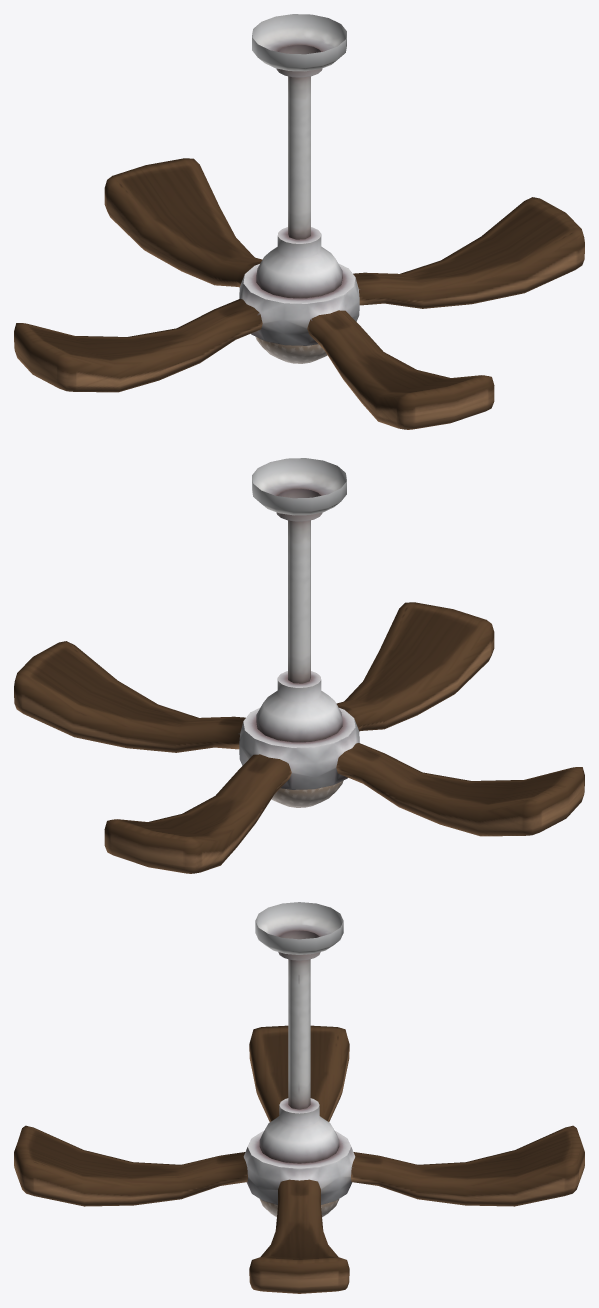
Rendered from FanCeiling01.FBX.
3 views of the same model, one above another, from view 1: azimuth 30°, elevation 25°; view 2: azimuth 150°, elevation 25°; view 3: azimuth 270°, elevation 25° (orthographic). The views are drawn at different scales.
Visible parts, largest first — view 1: FanCeiling01; view 2: FanCeiling01; view 3: FanCeiling01.
Boxes of the visible parts, box(x1,y1,x2,y2) form: FanCeiling01: box(14, 14, 584, 429); FanCeiling01: box(14, 458, 584, 873); FanCeiling01: box(14, 902, 584, 1293).
Size of what is drawn, in the model's own units: 1.25 by 0.7193 by 1.25.
